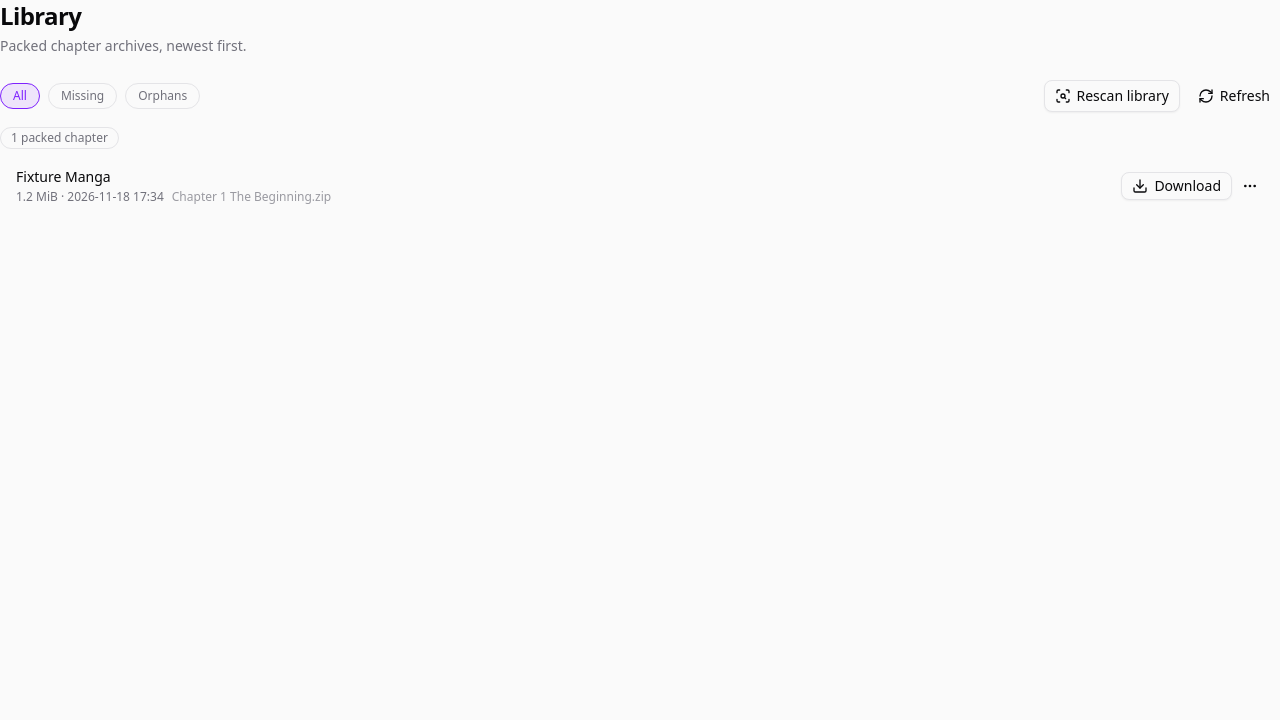
Test: LibraryPage row polish (UX-AUDIT L-2/L-3) › manages files from the row: menu → Delete file… → confirm names the file → DELETE + refetch
Check: the text "Fixture Manga" is shown, box [16, 167, 111, 186]
Click the button named "File actions for Chapter 1 The Beginning.zip".
click(1250, 186)  # box [1236, 172, 1264, 200]
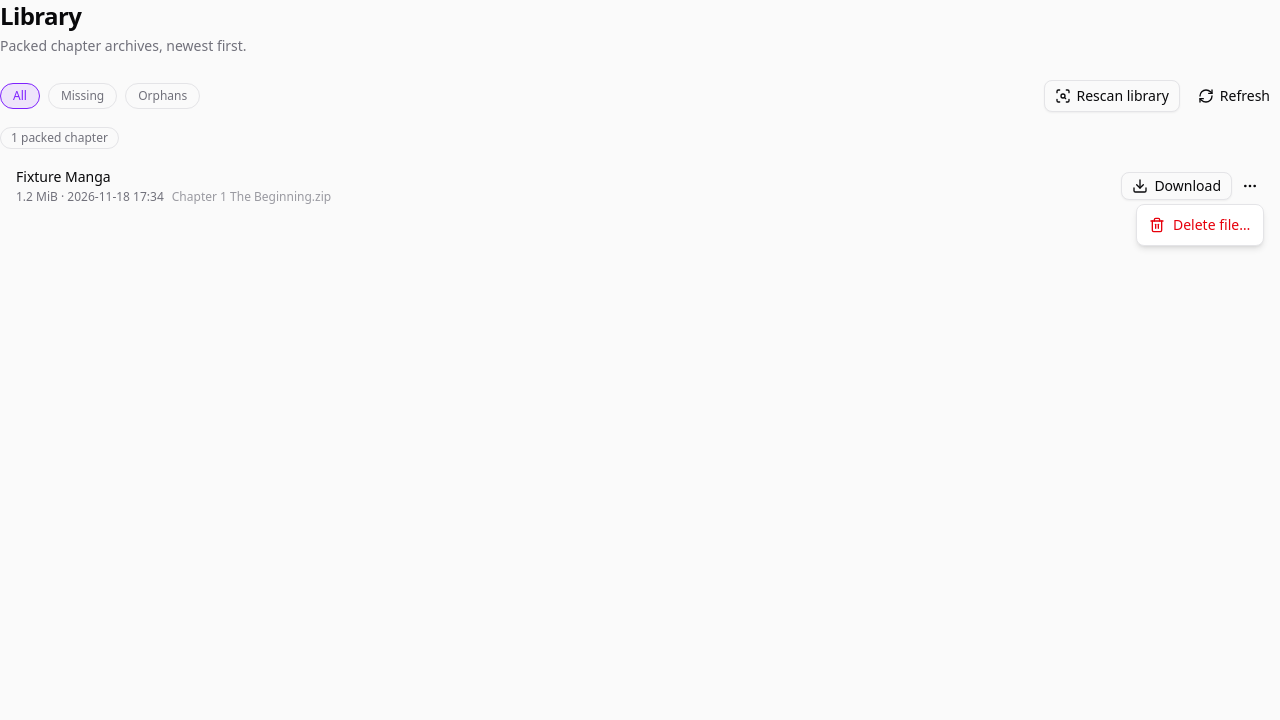
Click the menu item "Delete file…".
click(1200, 224)  # box [1149, 215, 1250, 234]
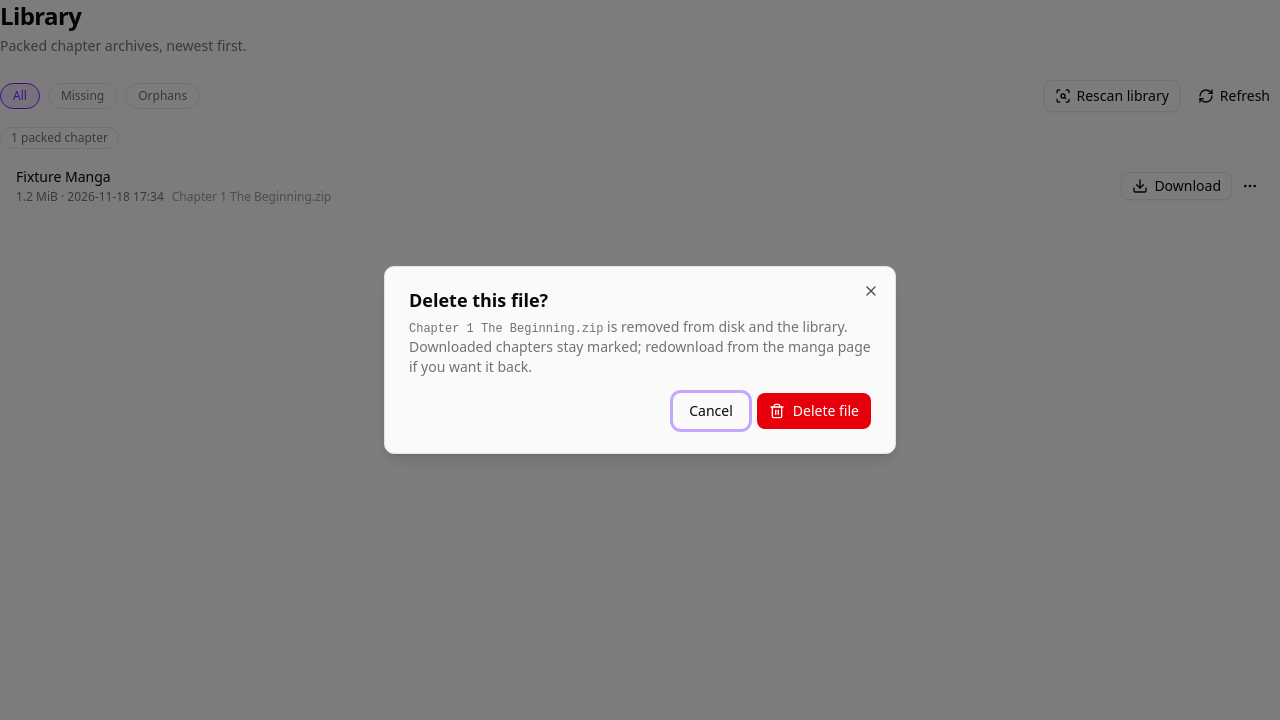
Click the button "Delete file".
click(814, 411)  # box [757, 393, 871, 429]
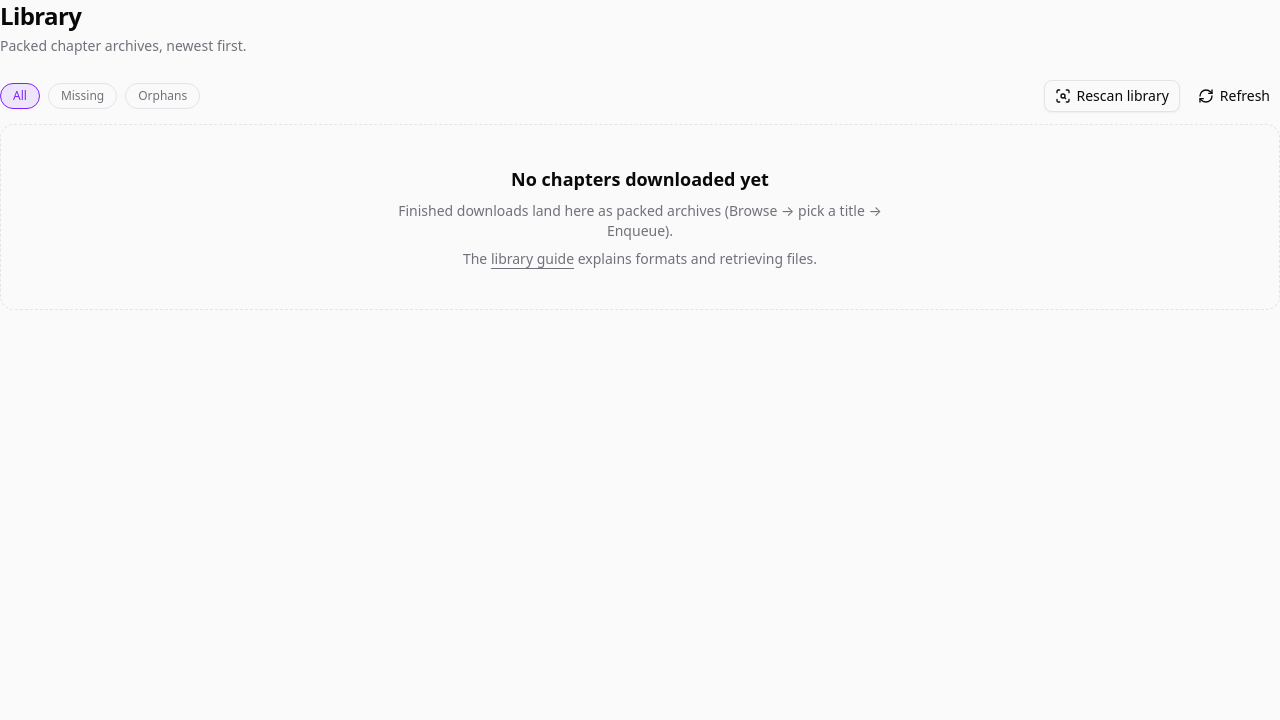
Check: the heading "No chapters downloaded yet" is shown, box [511, 167, 769, 191]
